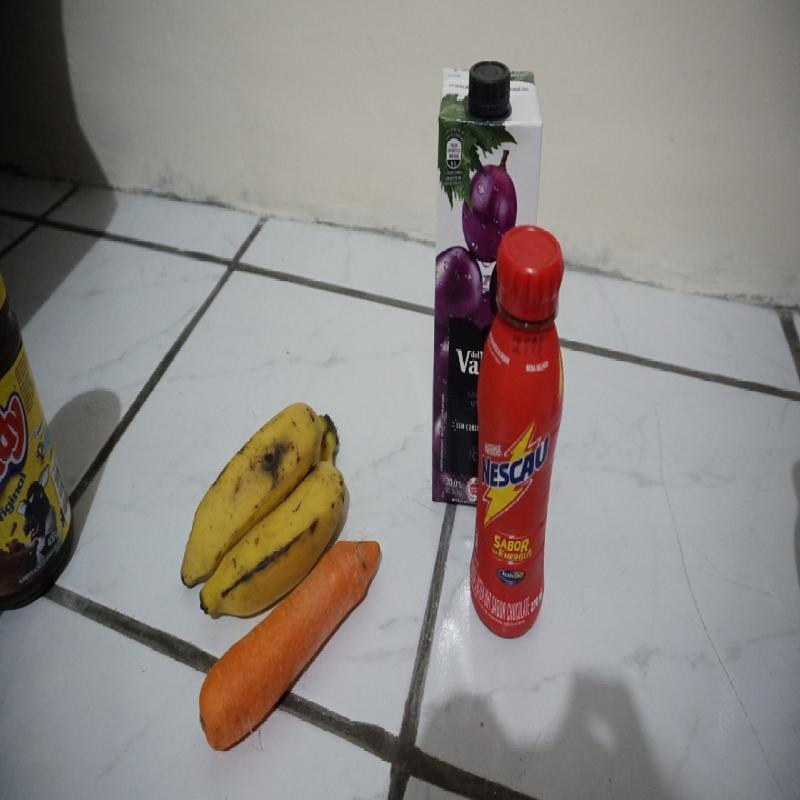Banana: (181, 406, 347, 580)
Carrot: (195, 593, 332, 752)
Chocolate Milk: (470, 229, 566, 631)
Chocolate Powder: (0, 271, 74, 604)
